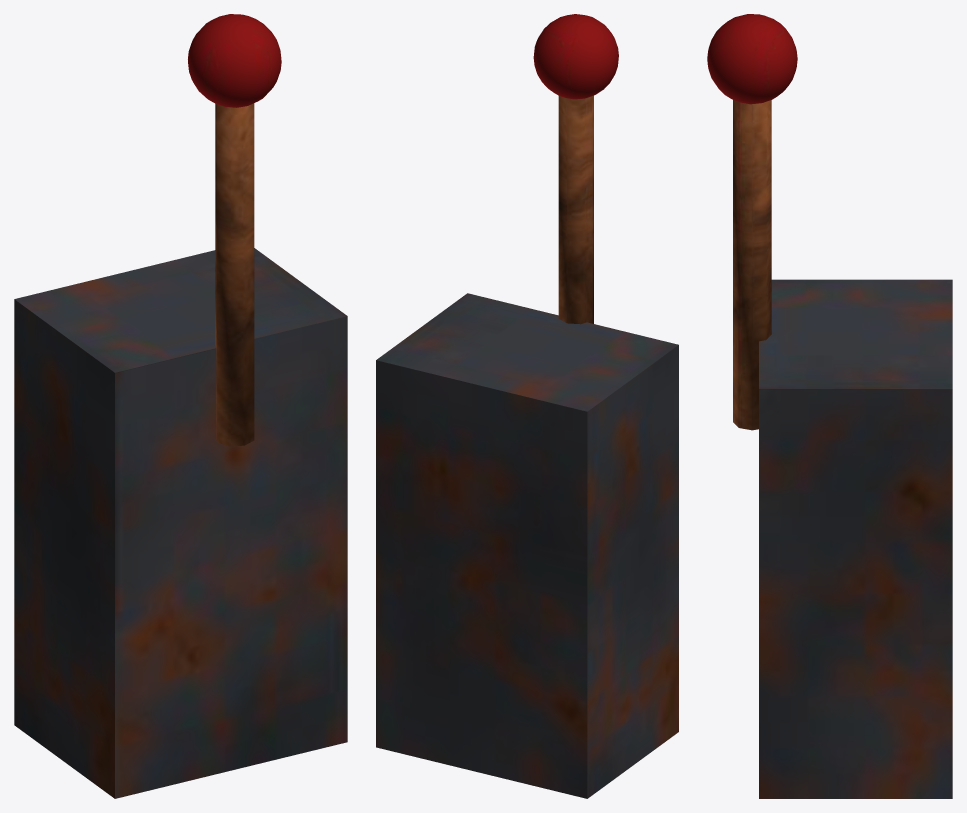
Rendered from lever.glb.
3 views of the same model, side by side, from view 1: azimuth 30°, elevation 25°; view 2: azimuth 150°, elevation 25°; view 3: azimuth 270°, elevation 25° (orthographic). The views are drawn at different scales.
Parts seen in each view (by area): view 1: Main, Handle; view 2: Main, Handle; view 3: Main, Handle.
Part boxes in pixels (x1,y1,x2,y2): Main: (14,248,347,798); Handle: (188,14,281,446); Main: (376,293,678,798); Handle: (533,14,618,324); Main: (759,279,952,798); Handle: (707,14,797,430).
Bounding box in the file's own units: 0.4 × 1.24 × 0.38.
Materials: 2 (2 with a texture image).
